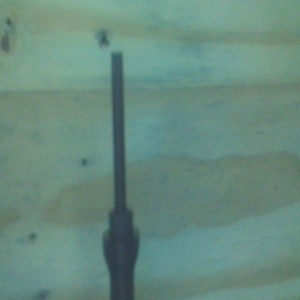obeng: (101, 51, 140, 300)
